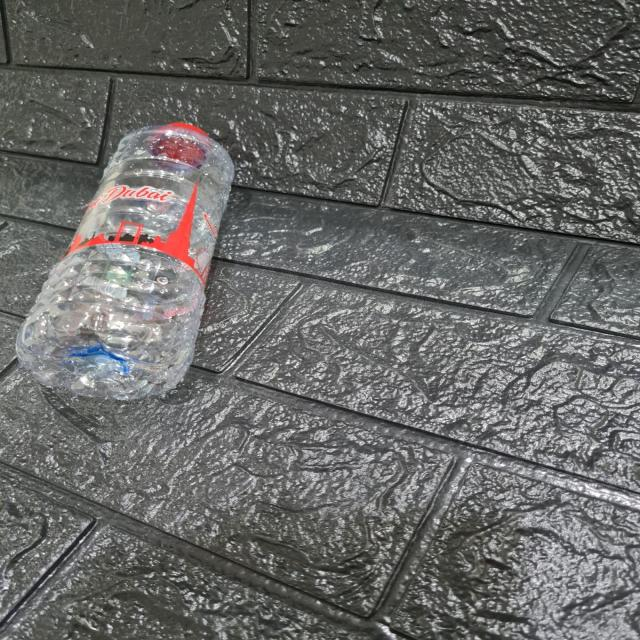bottle: (8, 108, 230, 408)
